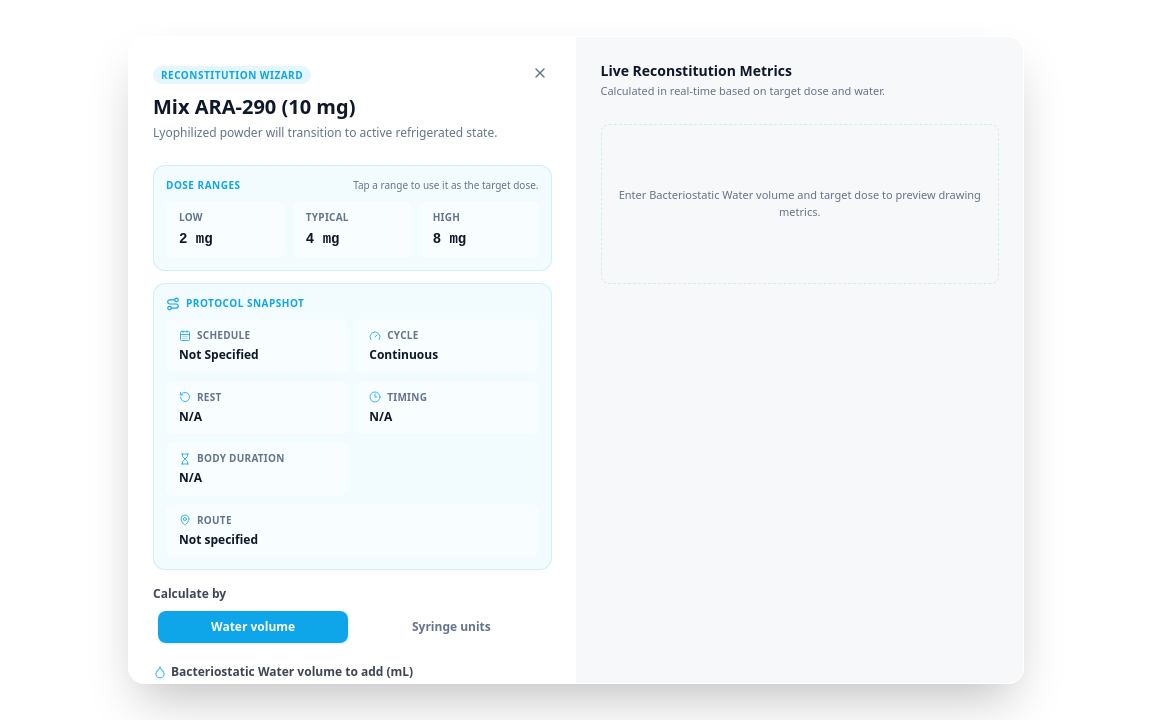
ReconstituteModal › calculates water volume from a target syringe pull
Click the button "Syringe units" at coordinates (451, 627), box [356,611,547,643]
(page scrolled)
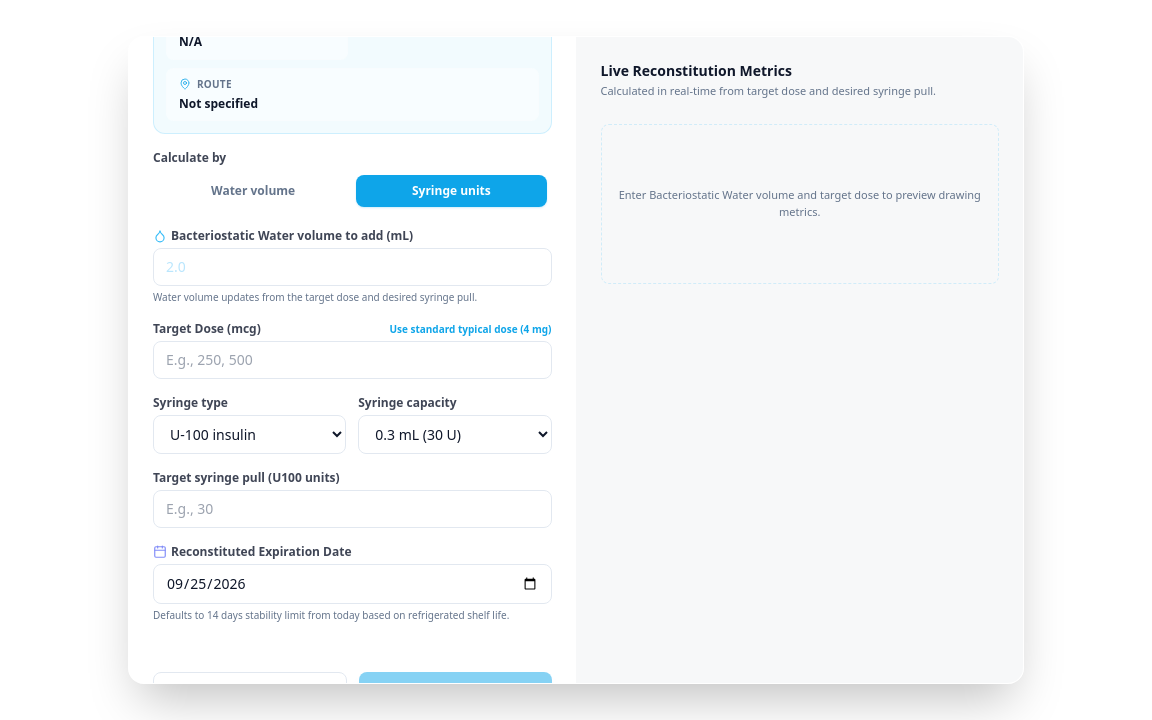
Type "4000" into the number field labelled "Target Dose (mcg)" at coordinates (352, 360), box [153,341,552,379]
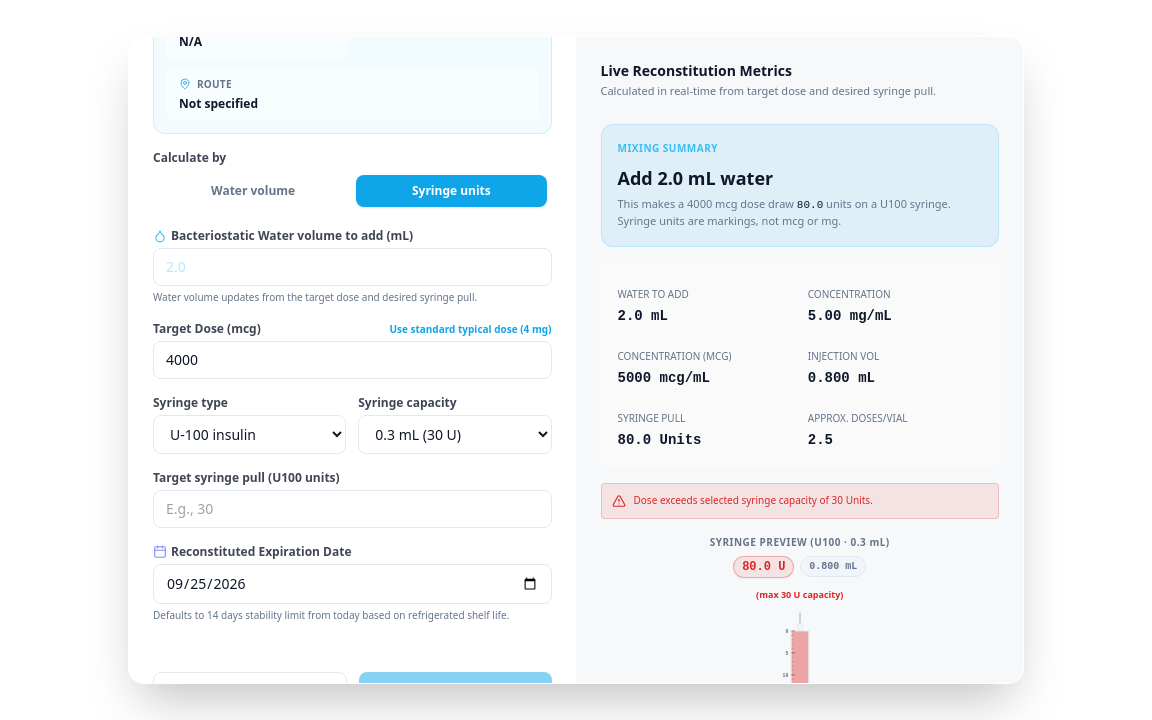
Type "30" into the number field labelled "Target syringe pull (U100 units)" at coordinates (352, 509), box [153,490,552,528]
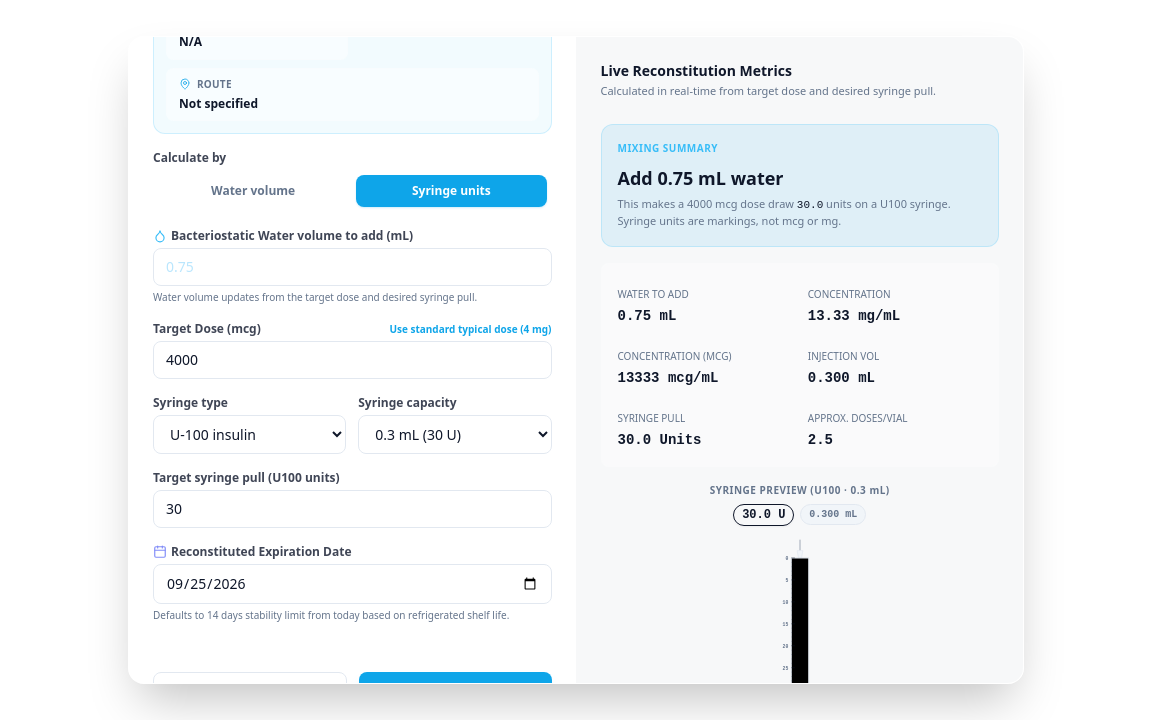
Expected: the number field labelled "Bacteriostatic Water volume to add (mL)" holds "0.75", [153,248,552,286]
Expected: the text "Add 0.75 mL water" is shown, [618,166,784,190]
Expected: the text "30.0 Units" is shown, [618,432,702,448]
